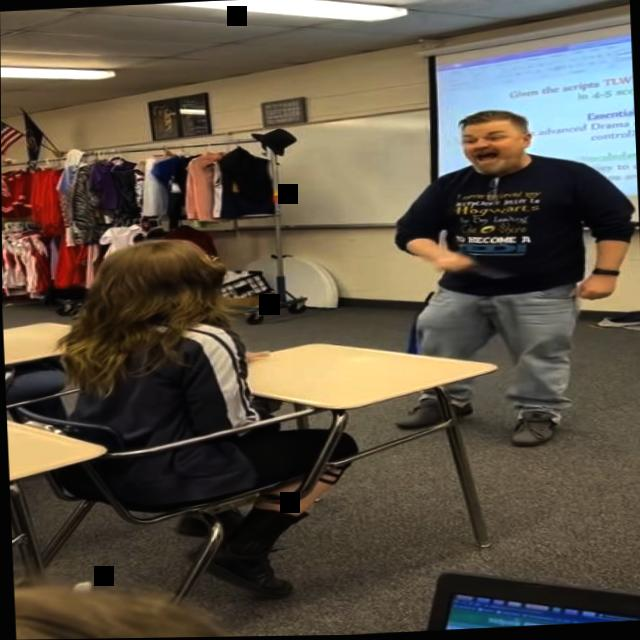NO-Mask: (456, 112, 533, 177)
